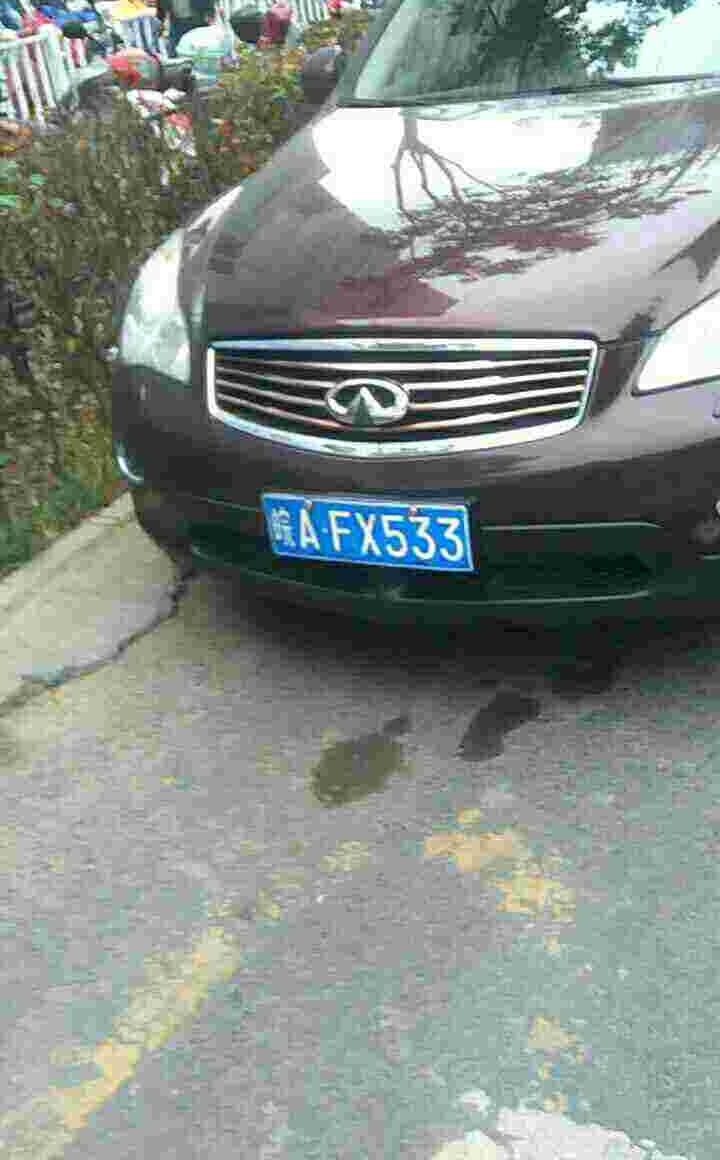license_plate: (267, 493, 477, 578)
